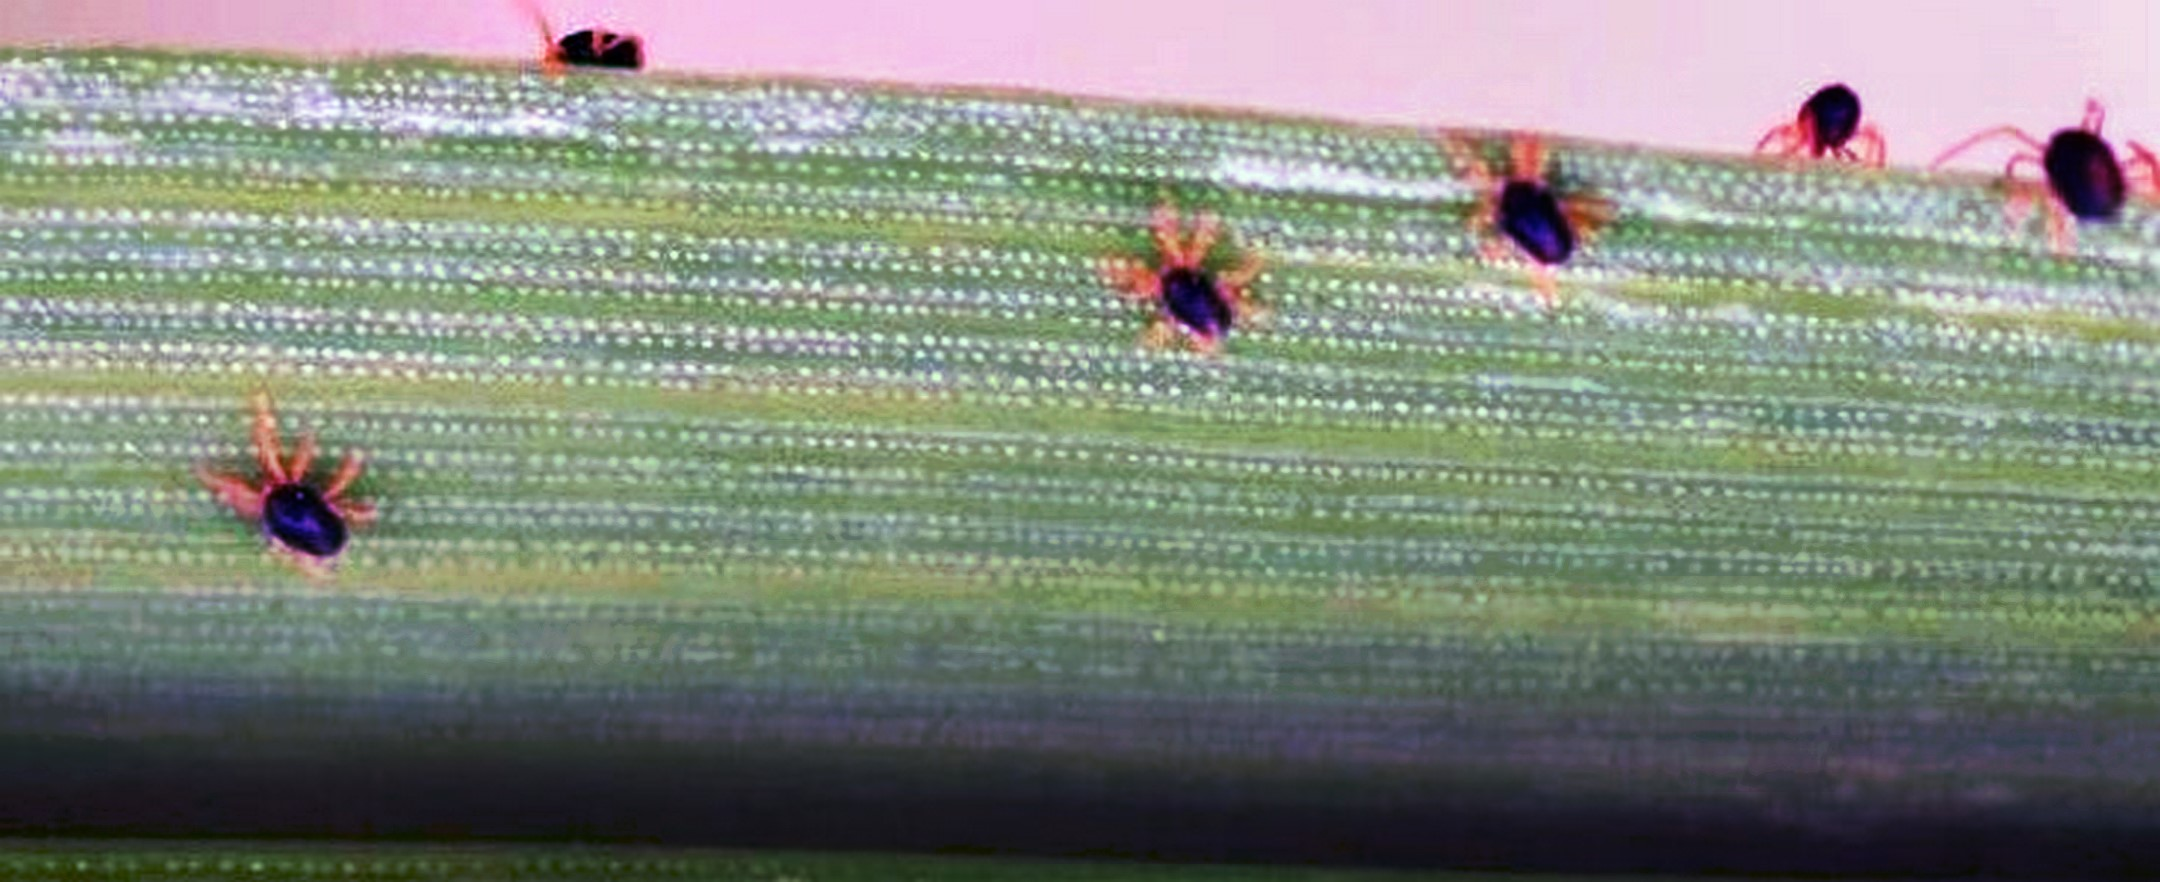Wheat Red Spider: (185, 380, 391, 604)
